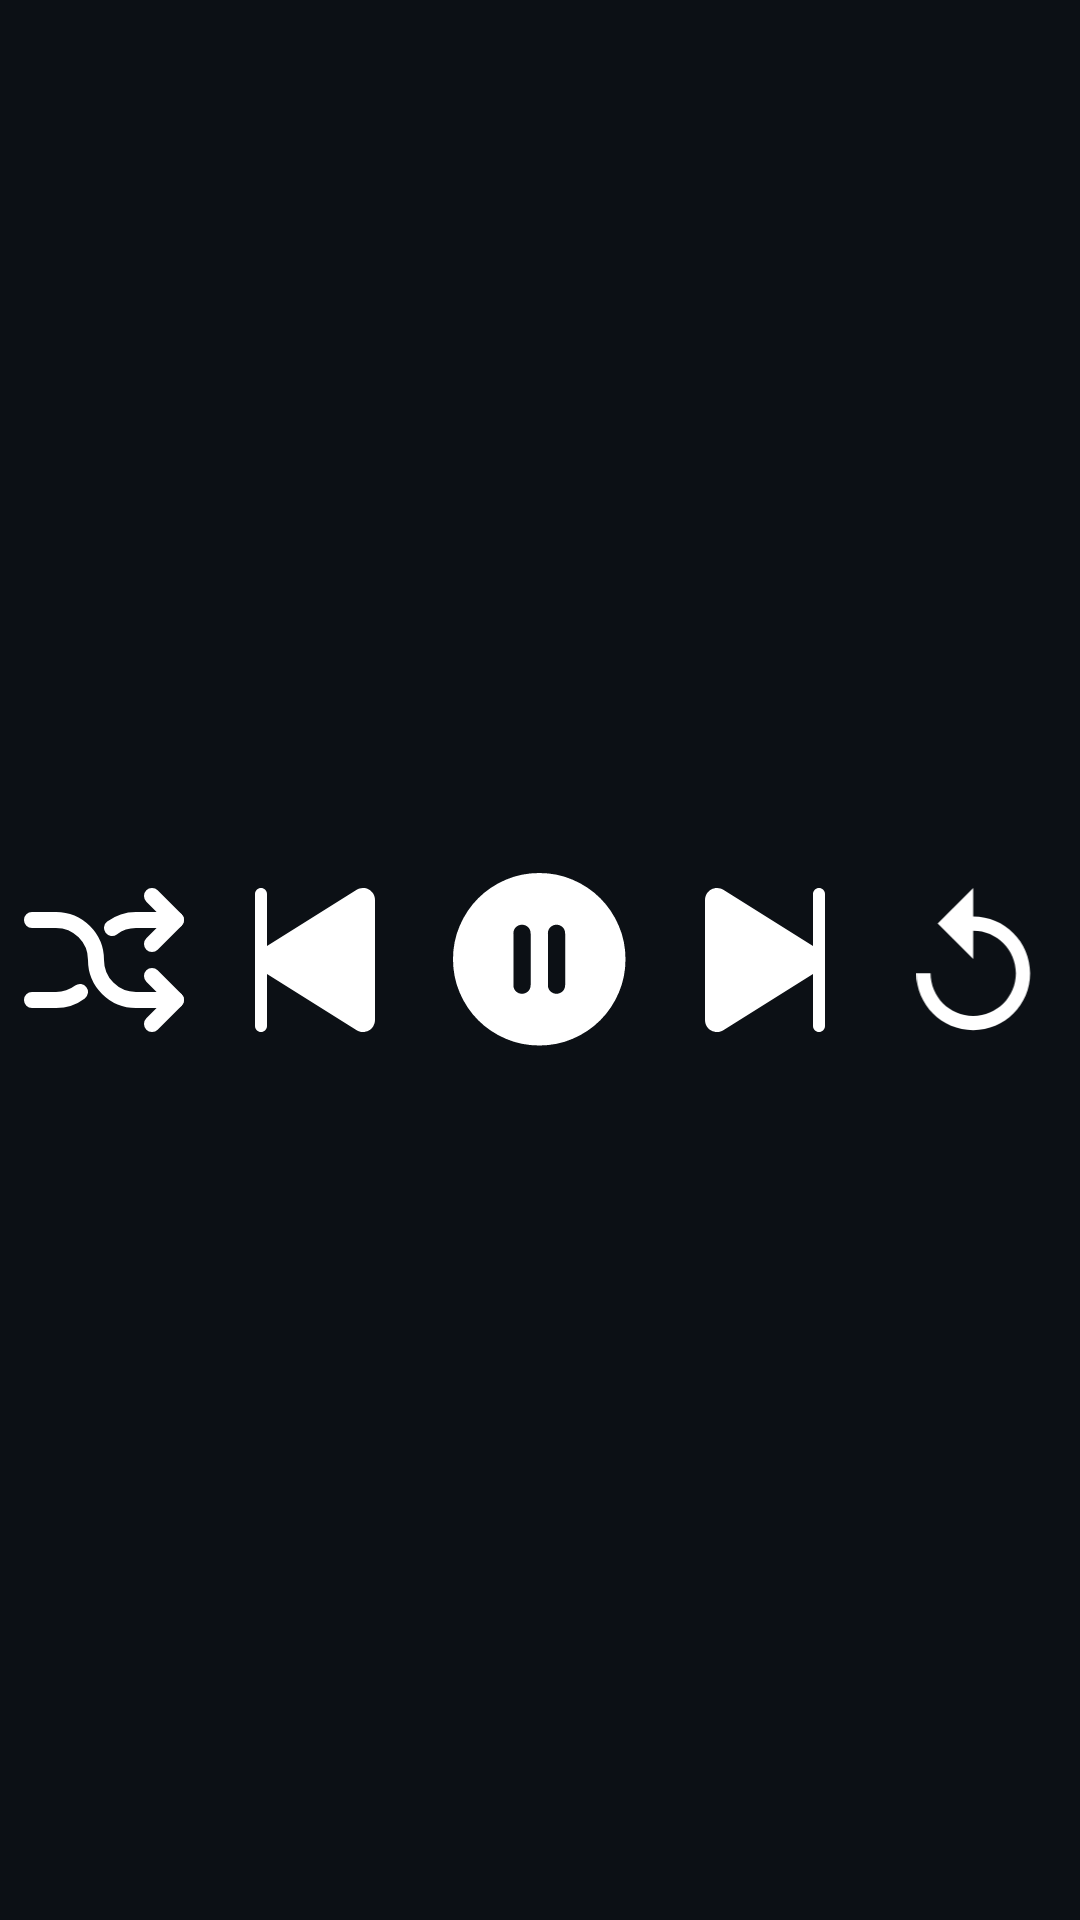

Where to tap for icons on this 1080*1920 app screen, as [x,y]:
loop: [973,959]
next: [765,960]
pause: [539,959]
prev: [315,960]
random: [104,960]
